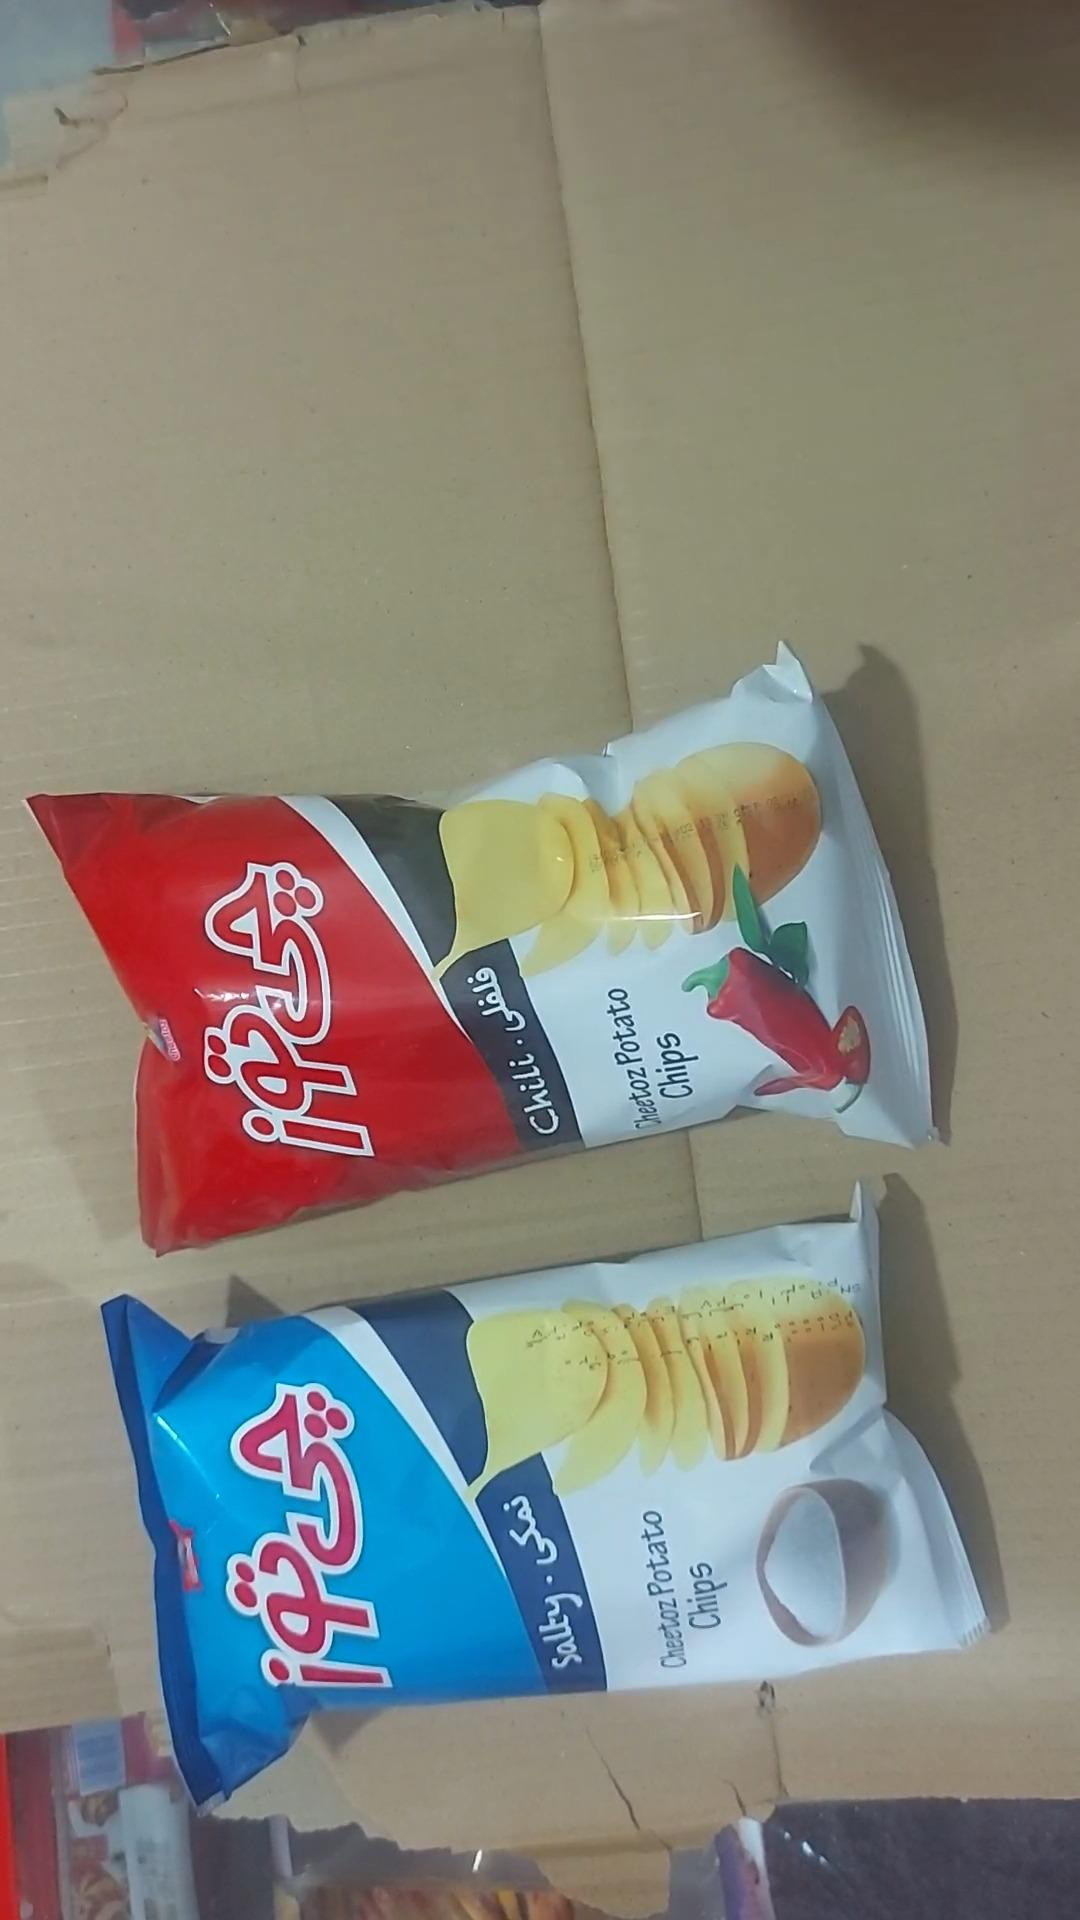Cheetoz chili chips: (28, 644, 940, 1261)
Cheetoz salty chips: (98, 1178, 988, 1811)
